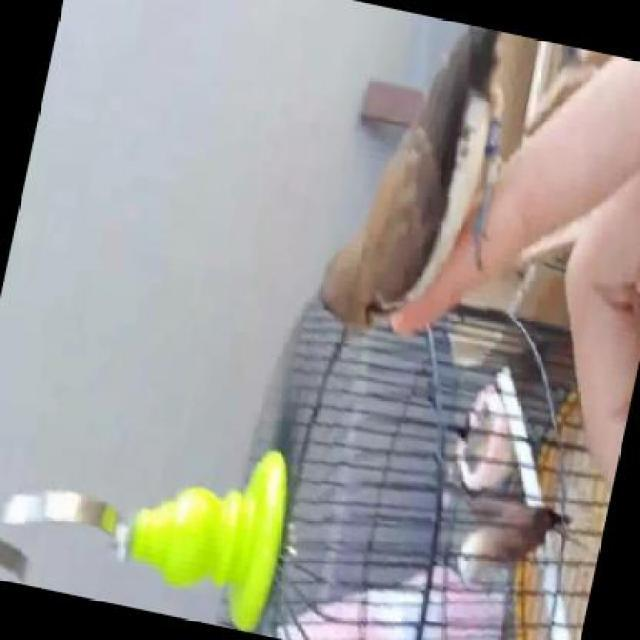Bird: (308, 11, 527, 376)
